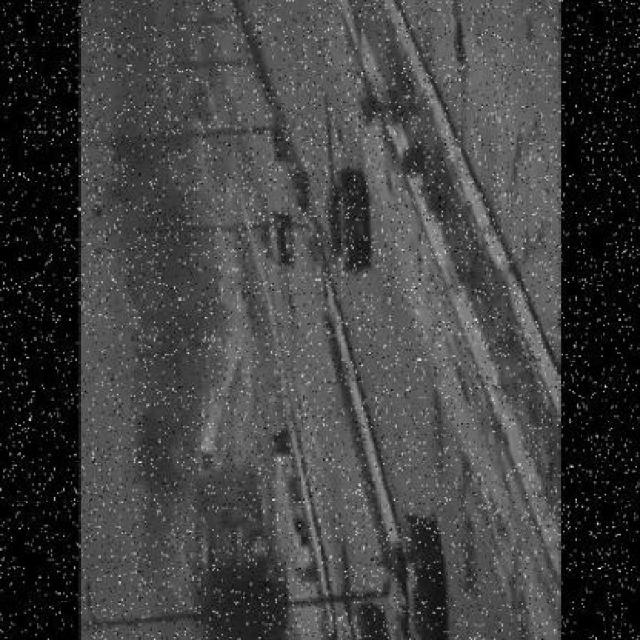Tank: (321, 90, 378, 281), (381, 510, 446, 640), (258, 207, 295, 273), (339, 612, 399, 639)
